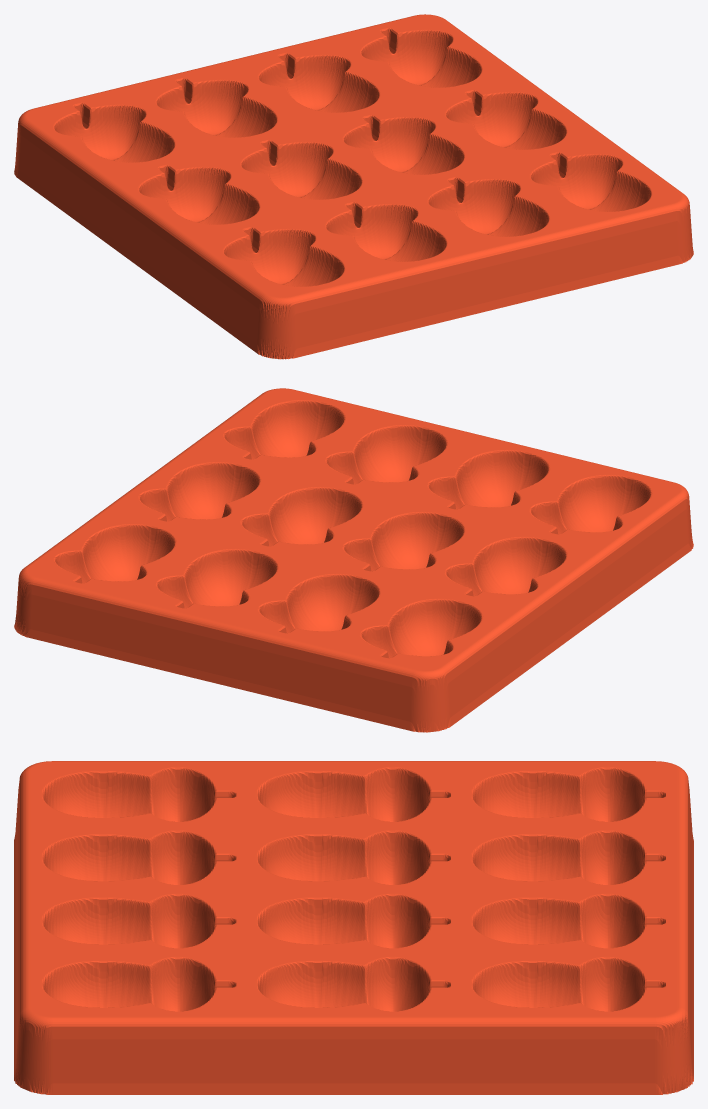
File: mold.glb
The picture shows the model from 3 angles, top to bottom: view 1: azimuth 30°, elevation 25°; view 2: azimuth 150°, elevation 25°; view 3: azimuth 270°, elevation 25°; orthographic projection. The views are drawn at different scales.
Parts seen in each view (by area): view 1: geometry_0; view 2: geometry_0; view 3: geometry_0.
Boxes of the visible parts, left/top/right/bottom form: geometry_0: left=14, top=14, right=693, bottom=359; geometry_0: left=14, top=388, right=693, bottom=732; geometry_0: left=14, top=761, right=693, bottom=1094.
Bounding box in the file's own units: 0.149 × 0.0185 × 0.1598.
